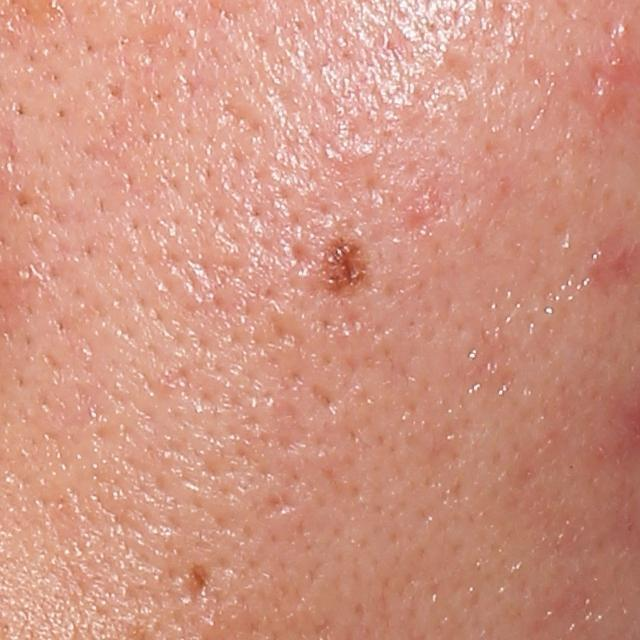atrophic_scar: (222, 89, 273, 142), (309, 381, 348, 420), (265, 490, 302, 517)
nevus: (318, 232, 380, 311), (190, 563, 210, 595)
